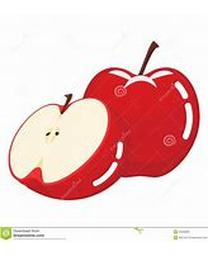apple: (83, 43, 200, 178), (8, 93, 131, 200)
